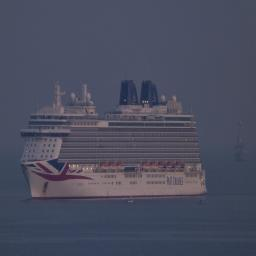cruises: (18, 76, 211, 203)
